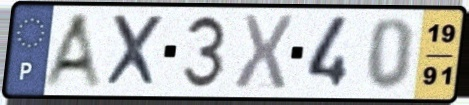0: (364, 15, 417, 93)
3: (177, 12, 231, 93)
4: (303, 13, 356, 95)
A: (39, 11, 106, 92)
X: (231, 12, 296, 93), (102, 13, 167, 90)
